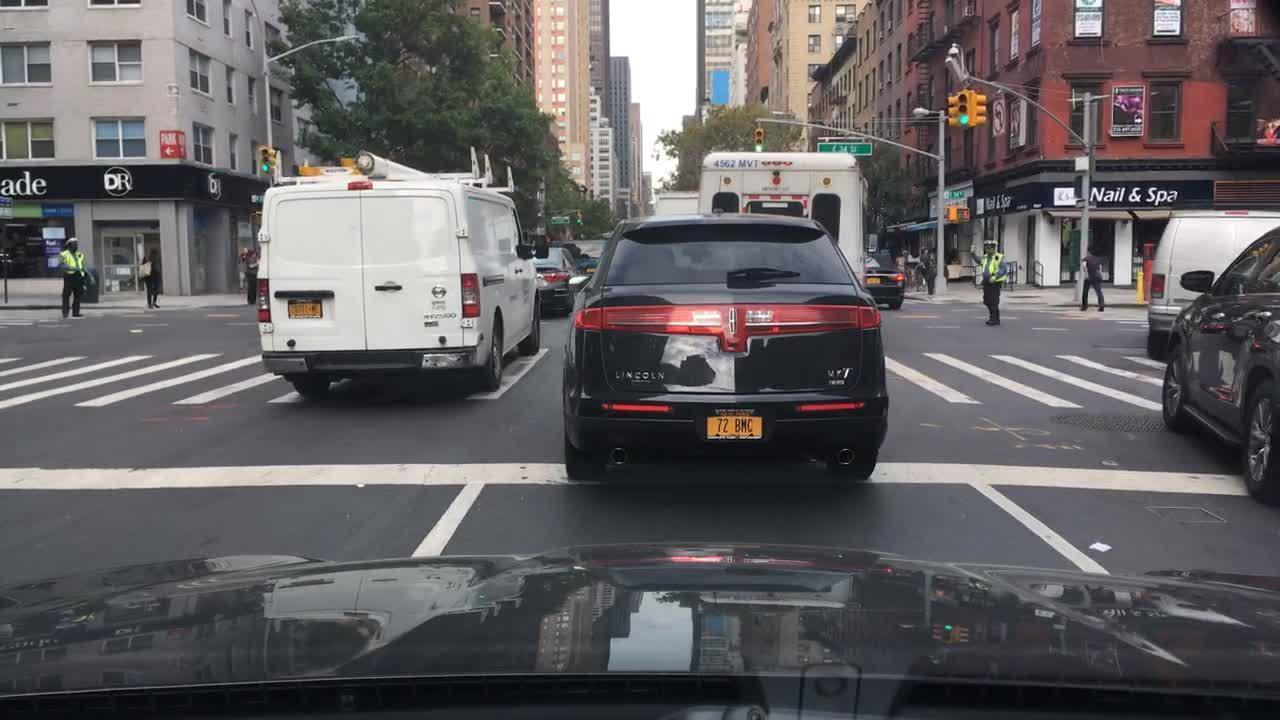Nissan: (429, 286, 451, 298)
lincoln: (723, 301, 746, 346), (615, 370, 664, 380)
